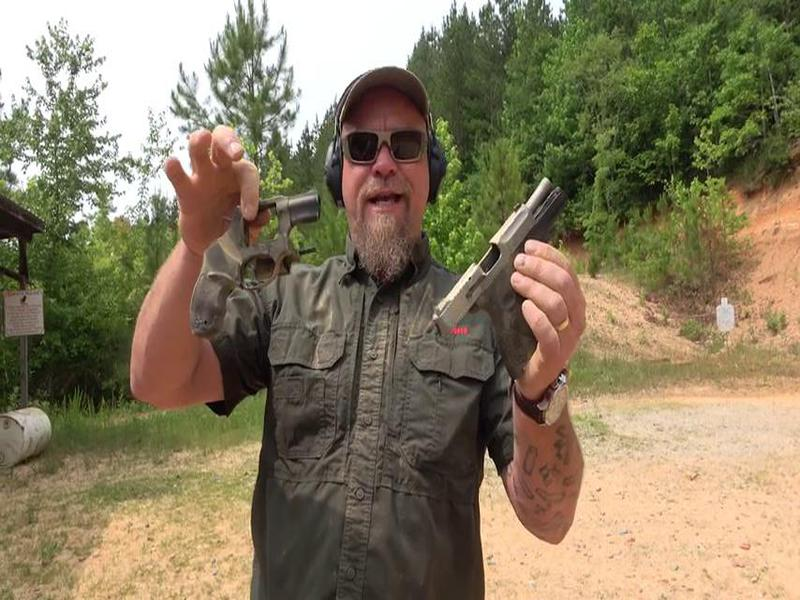Pistola: (415, 171, 586, 373)
Revolver: (185, 169, 344, 347)
